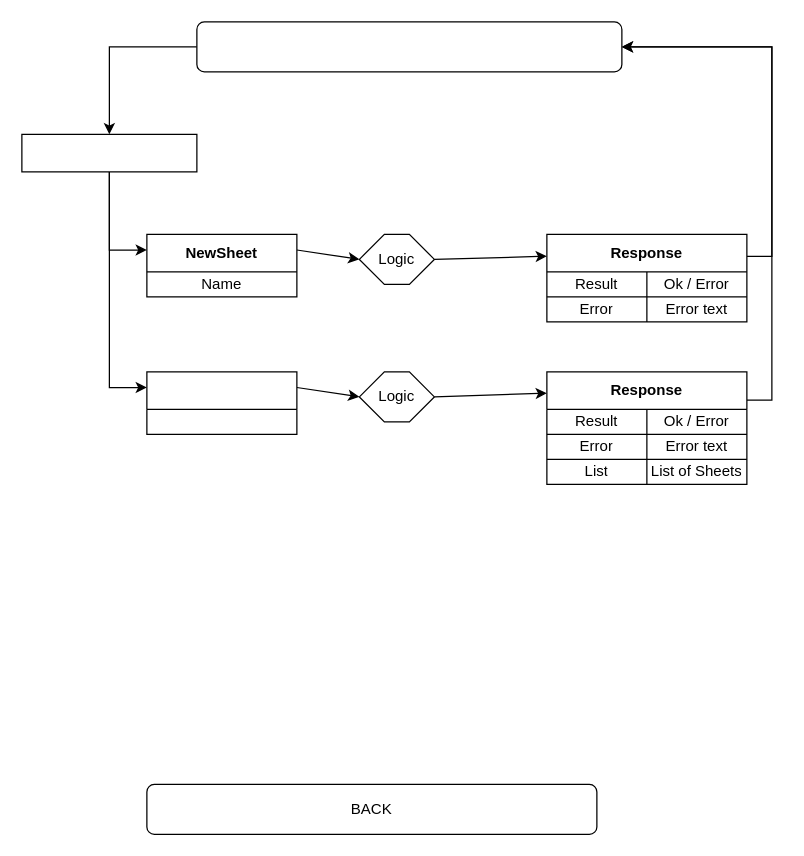
Some shapes in this 804 by 856 pixel diagram are drawn without their labels. Here are the shapes that lost their labels. From the top down, the centre of each, then its label:
At [409,46]: "FRONT CASH".
At [109,152]: "Operation".
At [221,402]: "GetSheets".
